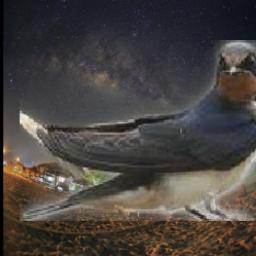Swallow: (20, 40, 256, 221)
